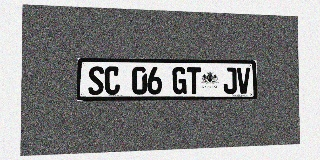0: (132, 67, 147, 95)
6: (147, 67, 162, 94)
C: (104, 66, 120, 95)
G: (172, 67, 186, 94)
J: (223, 67, 237, 94)
S: (88, 66, 104, 95)
T: (187, 67, 201, 94)
V: (237, 67, 250, 94)
